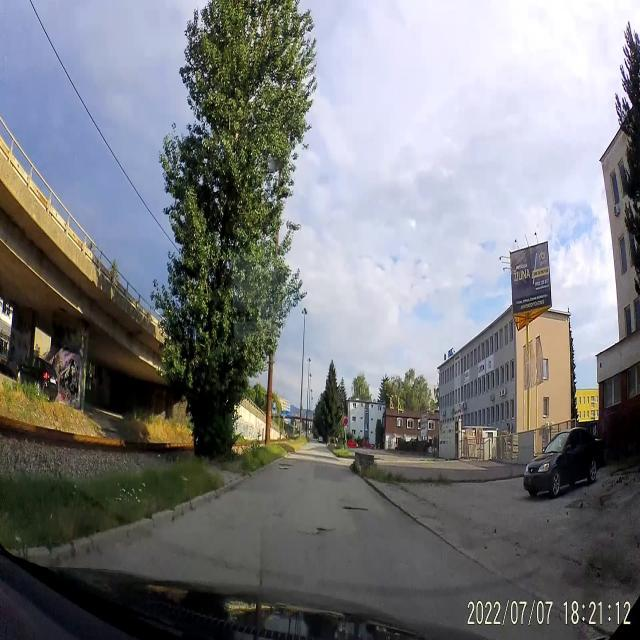Pothole: (341, 496, 369, 516), (314, 522, 334, 542), (276, 462, 294, 472)
